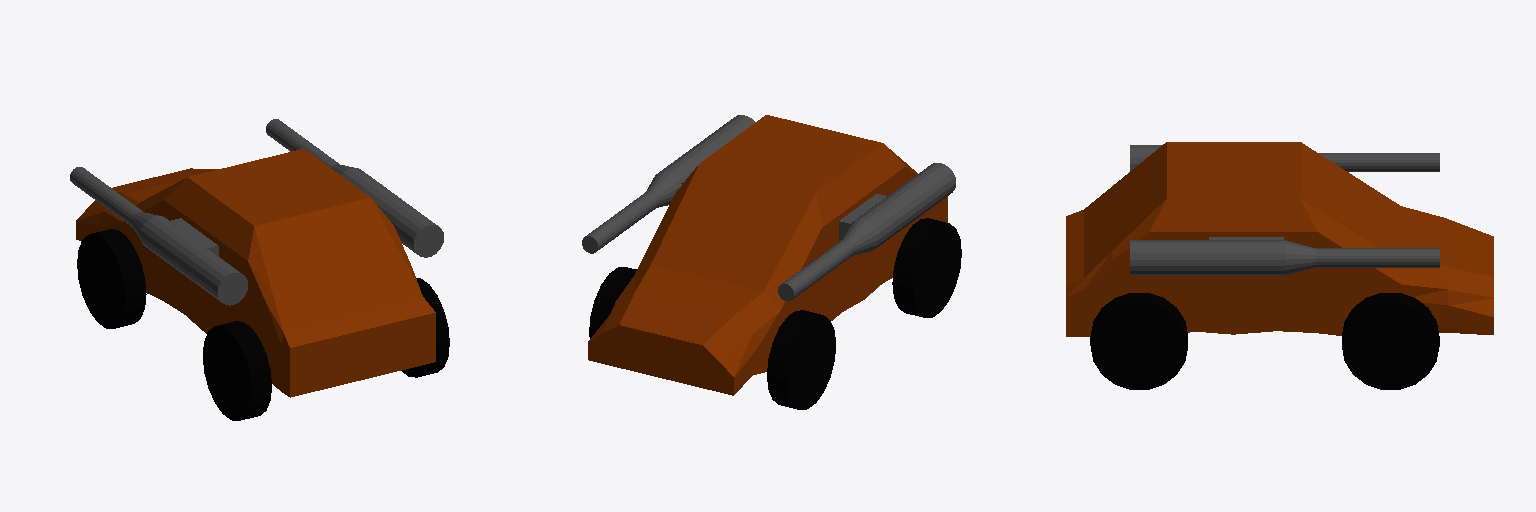
File: Car.obj
3 renders of one model, left to right at view 1: azimuth 30°, elevation 25°; view 2: azimuth 150°, elevation 25°; view 3: azimuth 270°, elevation 25°, orthographic.
Parts seen in each view (by area): view 1: Box001, Cylinder001, Cylinder003, Cylinder004, Cylinder002, Cylinder006; view 2: Box001, Cylinder001, Cylinder003, Cylinder004, Cylinder002, Cylinder005, Box002; view 3: Box001, Cylinder002, Cylinder005, Cylinder006, Cylinder001.
Part boxes in pixels (bbox=[...]): Box001: bbox=[76, 149, 435, 397]; Cylinder001: bbox=[70, 167, 247, 305]; Cylinder003: bbox=[77, 229, 146, 328]; Cylinder004: bbox=[203, 321, 271, 420]; Cylinder002: bbox=[266, 119, 443, 257]; Cylinder006: bbox=[402, 278, 449, 377]; Box001: bbox=[588, 115, 947, 395]; Cylinder001: bbox=[778, 163, 955, 301]; Cylinder003: bbox=[767, 310, 835, 409]; Cylinder004: bbox=[892, 218, 961, 317]; Cylinder002: bbox=[582, 115, 755, 253]; Cylinder005: bbox=[589, 267, 636, 338]; Box002: bbox=[681, 178, 886, 241]; Box001: bbox=[1066, 142, 1493, 336]; Cylinder002: bbox=[1130, 240, 1439, 275]; Cylinder005: bbox=[1342, 293, 1439, 389]; Cylinder006: bbox=[1090, 293, 1187, 389]; Cylinder001: bbox=[1130, 145, 1439, 171].
Size of the model in its own units: 1.25 by 0.9023 by 2.04.